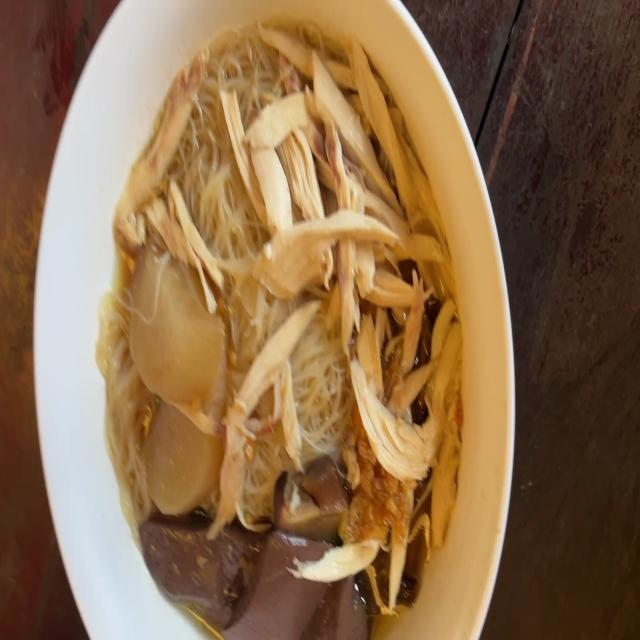boiled_chicken_blood_jelly: (141, 502, 363, 640)
chicken_shredded: (280, 37, 450, 525), (113, 68, 200, 240)
daikon_radish: (128, 249, 225, 506)
noodle: (98, 29, 477, 640)
